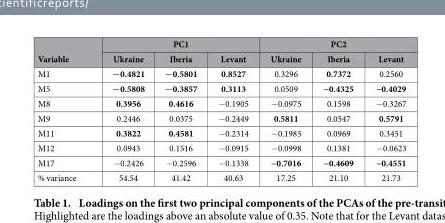table: (36, 37, 405, 183)
table column: (93, 37, 153, 183), (36, 37, 93, 183), (153, 37, 206, 183), (258, 37, 311, 183), (206, 37, 258, 183), (311, 37, 363, 183), (363, 37, 405, 183)
table column header: (36, 37, 405, 65)
table row: (36, 50, 405, 65), (36, 65, 405, 80), (36, 80, 405, 95), (36, 95, 405, 110), (36, 110, 405, 125), (36, 125, 405, 140), (36, 154, 405, 169), (36, 140, 405, 154), (36, 169, 405, 183), (36, 37, 405, 50)
table spanning cell: (93, 37, 258, 50), (258, 37, 405, 50), (36, 37, 93, 65)
